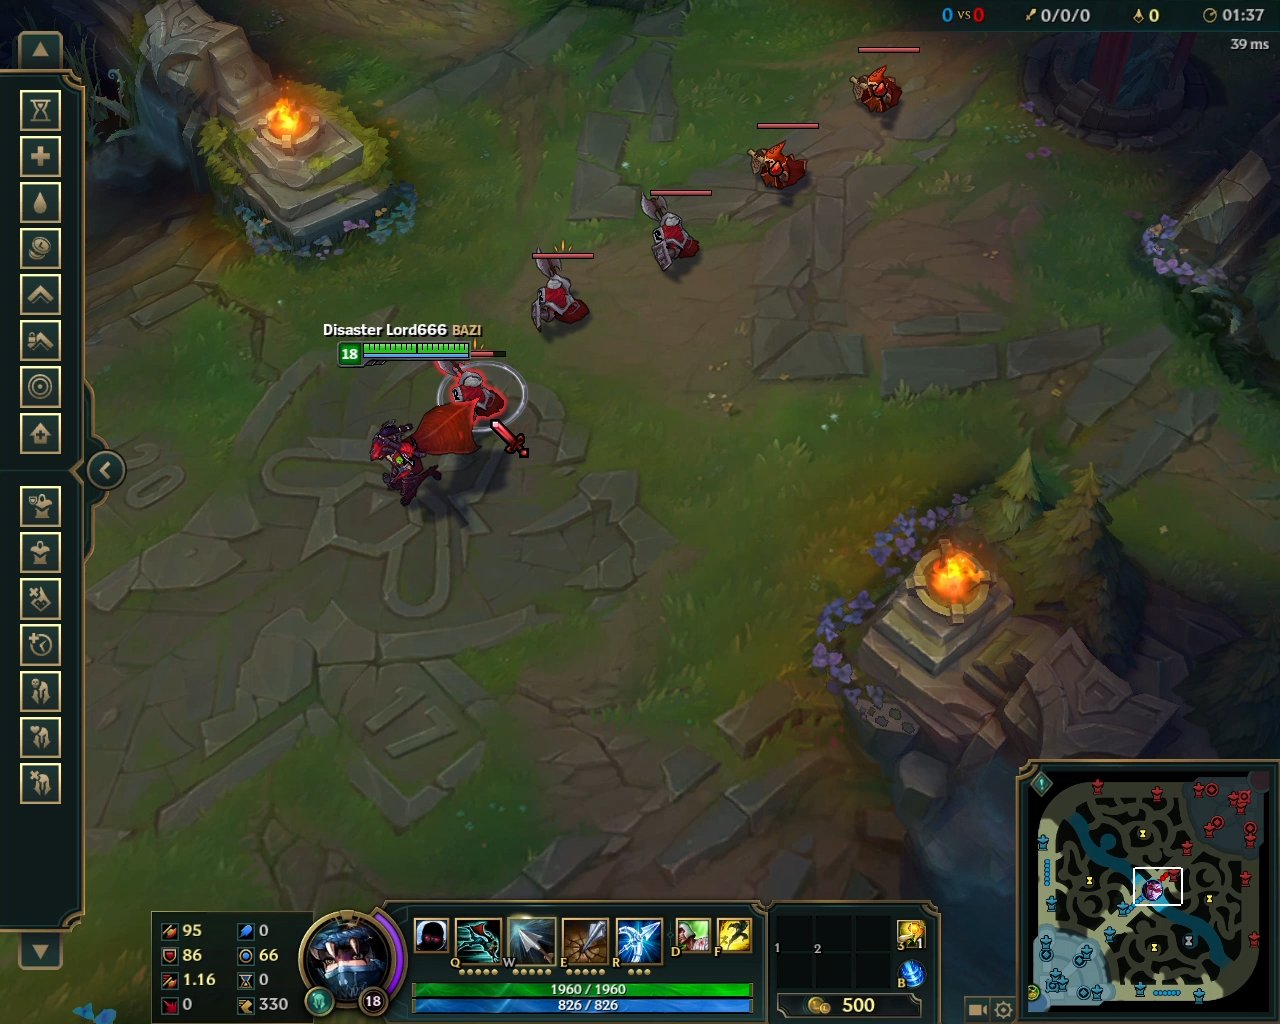EnemyMinion: (637, 189, 722, 274), (523, 245, 599, 335), (744, 123, 819, 194), (848, 45, 920, 118)
Vayne: (354, 394, 493, 517)
